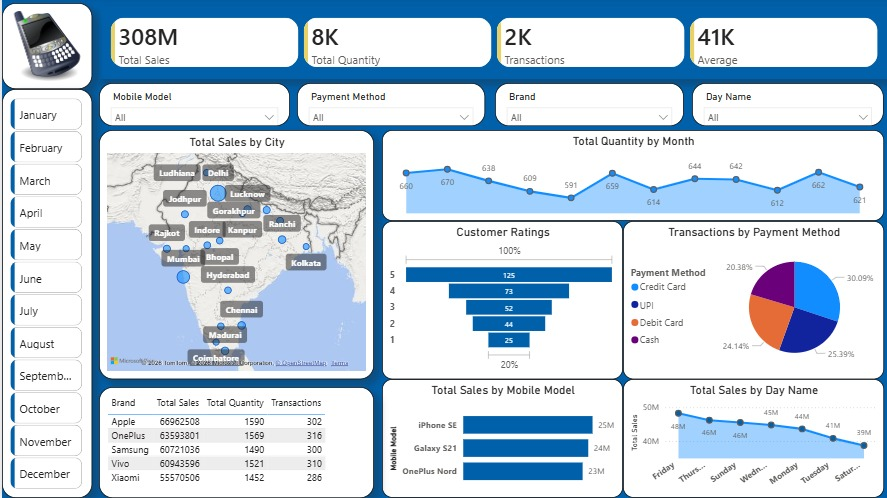

This screenshot's page, from the dashboard's own definition file:
{"tool":"powerbi","page":{"name":"Page 1","canvas":[1280,720],"ordinal":0},"visuals":[{"type":"shape","box":[0,7.2,129.6,123.8],"z":0},{"type":"image","box":[0,11.5,129.6,115.2],"z":1000},{"type":"shape","box":[0,131,129.6,589],"z":2000},{"type":"advancedSlicerVisual","fields":{"Values":["Sales Data.Date.Variation.Date Hierarchy.Month"]},"box":[7.2,139.7,113.8,580.3],"z":3000},{"type":"cardVisual","fields":{"Data":["Sales Data.Total Sales0","Sales Data.Total Quantity","Sales Data.Transactions","Sales Data.Average"]},"box":[139.7,11.5,1140.5,105.1],"z":4000},{"type":"map","fields":{"Category":["Sales Data.City"],"Size":["Sales Data.Total Sales"]},"box":[139.7,190.1,396,358.6],"z":5000},{"type":"lineChart","fields":{"Y":["Sales Data.Total Quantity"],"Category":["Sales Data.Date.Variation.Date Hierarchy.Month","Sales Data.Date.Variation.Date Hierarchy.Day"]},"box":[547.2,190.1,722.9,131],"z":6000},{"type":"clusteredBarChart","fields":{"Category":["Sales Data.Mobile Model"],"Y":["Sales Data.Total Sales"]},"box":[547.2,548.6,347,171.4],"z":7000},{"type":"pieChart","fields":{"Category":["Sales Data.Payment Method"],"Y":["Sales Data.Transactions"]},"box":[894.2,321.1,375.8,227.5],"z":8000},{"type":"funnel","title":" Customer Ratings","fields":{"Category":["Sales Data.Customer Ratings"],"Y":["CountNonNull(Sales Data.Customer Ratings)"]},"box":[547.2,321.1,347,227.5],"z":9000},{"type":"areaChart","fields":{"Category":["Sales Data.Day Name"],"Y":["Sales Data.Total Sales"]},"box":[894.2,548.6,375.8,171.4],"z":10000},{"type":"tableEx","fields":{"Values":["Sales Data.Brand","Sales Data.Total Sales","Sales Data.Total Quantity","Sales Data.Transactions"]},"box":[139.7,560.2,396,159.8],"z":11000},{"type":"slicer","fields":{"Values":["Sales Data.Mobile Model"]},"box":[139.7,122.4,275,61.9],"z":12000},{"type":"slicer","fields":{"Values":["Sales Data.Payment Method"]},"box":[424.8,122.4,270.7,61.9],"z":13000},{"type":"slicer","fields":{"Values":["Sales Data.Brand"]},"box":[709.9,122.4,272.2,61.9],"z":14000},{"type":"slicer","fields":{"Values":["Sales Data.Day Name"]},"box":[993.6,122.4,276.5,61.9],"z":15000}]}

Visuals, with their boxes in screenshot pixels (x1, y1, x2, y2), scaled from the page's 1280x720 canvas onto the 887x498 screenshot:
shape: x1=0, y1=5, x2=90, y2=91
image: x1=0, y1=8, x2=90, y2=88
shape: x1=0, y1=91, x2=90, y2=497
advancedSlicerVisual - Sales Data.Date.Variation.Date Hierarchy.Month: x1=5, y1=97, x2=84, y2=497
cardVisual - Sales Data.Total Sales0 x Sales Data.Total Quantity: x1=97, y1=8, x2=886, y2=81
map - Sales Data.City x Sales Data.Total Sales: x1=97, y1=131, x2=371, y2=380
lineChart - Sales Data.Total Quantity x Sales Data.Date.Variation.Date Hierarchy.Month: x1=379, y1=131, x2=880, y2=222
clusteredBarChart - Sales Data.Mobile Model x Sales Data.Total Sales: x1=379, y1=379, x2=620, y2=497
pieChart - Sales Data.Payment Method x Sales Data.Transactions: x1=620, y1=222, x2=880, y2=379
" Customer Ratings" funnel: x1=379, y1=222, x2=620, y2=379
areaChart - Sales Data.Day Name x Sales Data.Total Sales: x1=620, y1=379, x2=880, y2=497
tableEx - Sales Data.Brand x Sales Data.Total Sales: x1=97, y1=387, x2=371, y2=497
slicer - Sales Data.Mobile Model: x1=97, y1=85, x2=287, y2=127
slicer - Sales Data.Payment Method: x1=294, y1=85, x2=482, y2=127
slicer - Sales Data.Brand: x1=492, y1=85, x2=681, y2=127
slicer - Sales Data.Day Name: x1=689, y1=85, x2=880, y2=127
